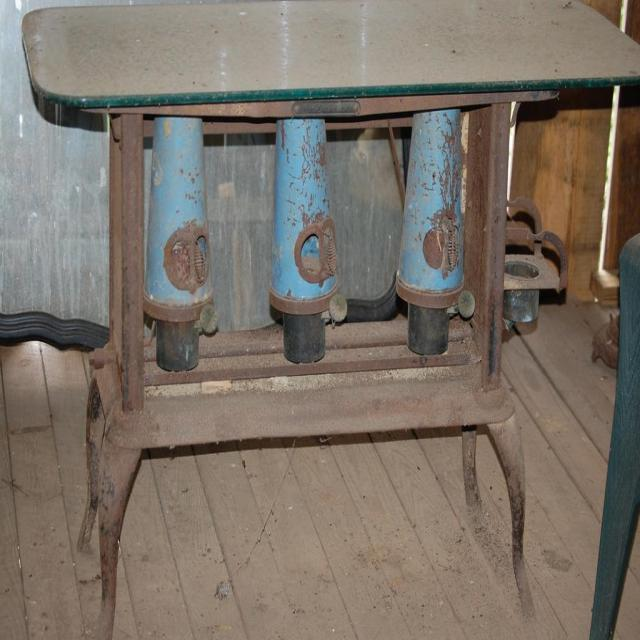Table: (10, 77, 640, 584)
